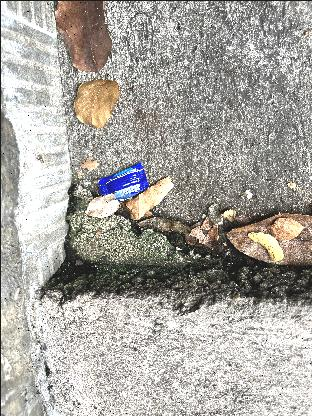Others: (95, 161, 148, 205)
